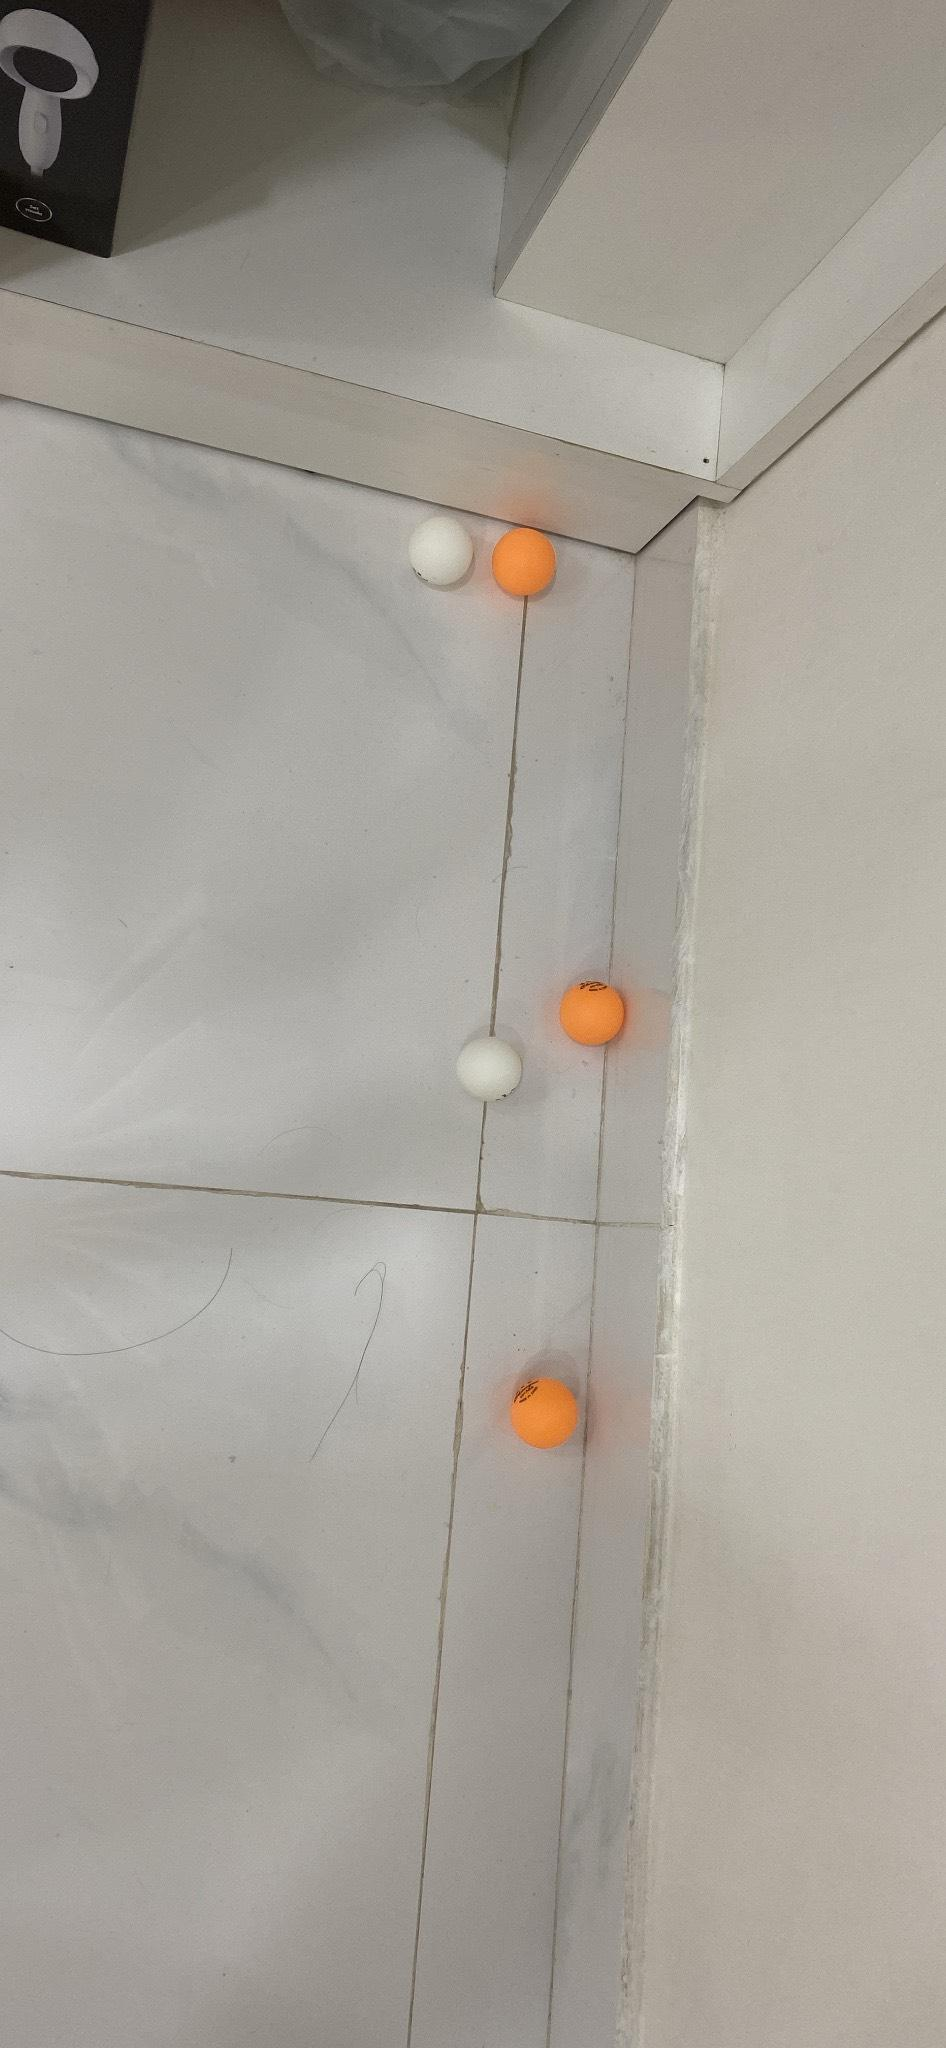oball: (510, 1370, 580, 1450), (493, 526, 557, 600), (558, 980, 630, 1044)
